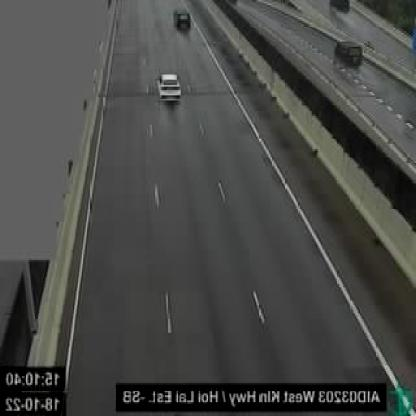Car: (334, 40, 364, 68), (156, 72, 182, 104), (172, 8, 191, 32)
